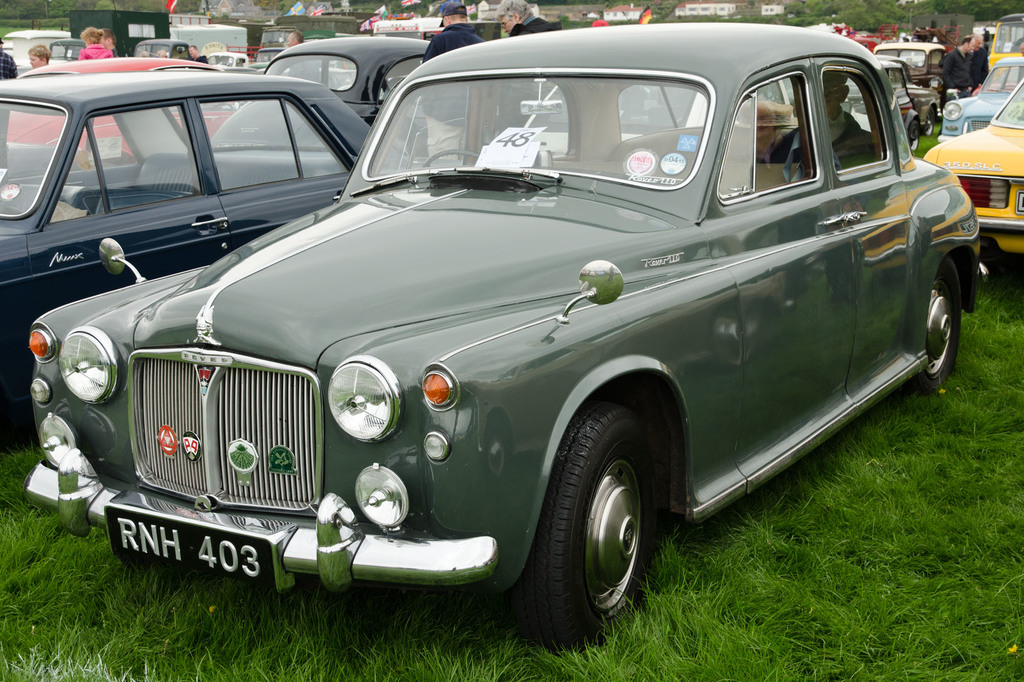Car: (23, 15, 984, 657), (0, 69, 458, 418), (520, 73, 876, 153), (0, 56, 250, 159), (210, 36, 430, 145), (922, 76, 1023, 255), (938, 49, 1023, 142)
